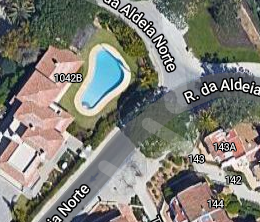pool: (85, 54, 121, 102)
